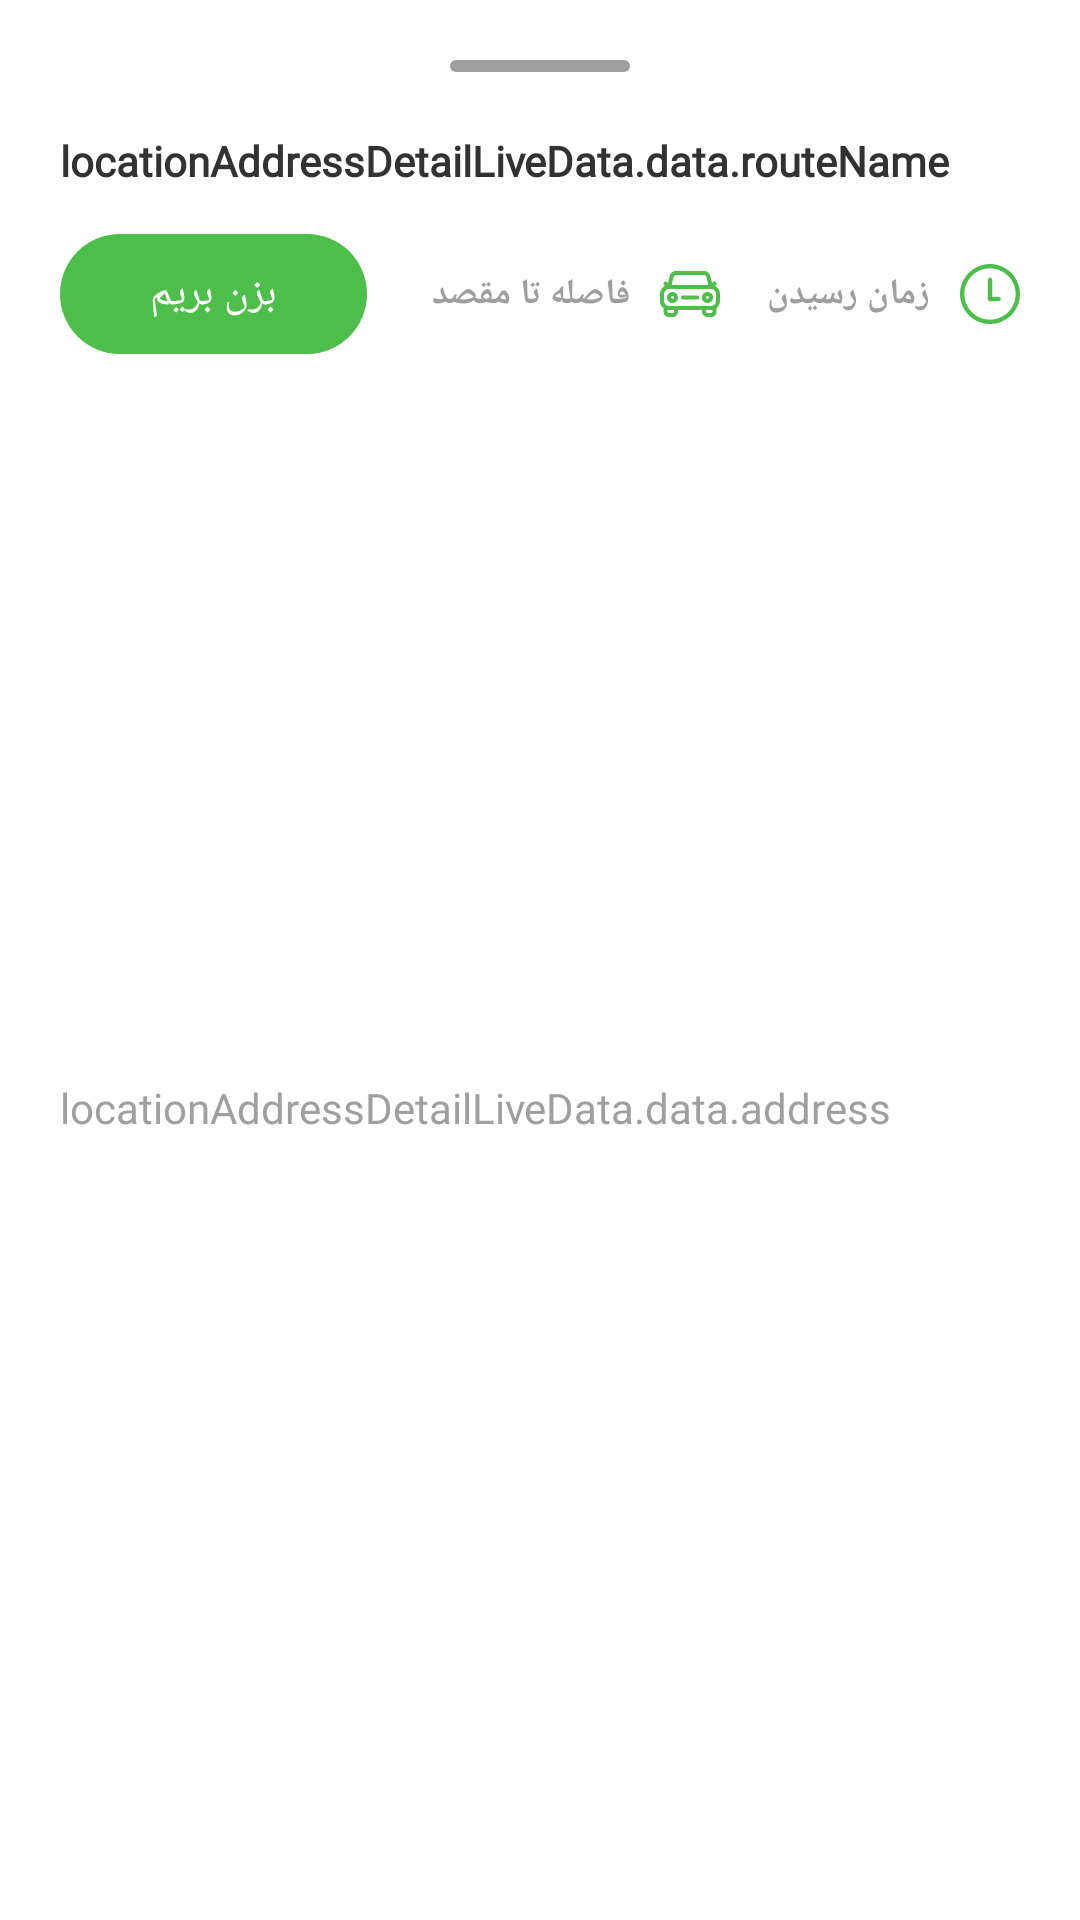

Icons on this 1080×1920 Android screen, each with the point to tap as (x=x, y=y):
car: (x=690, y=294)
time: (x=990, y=294)
